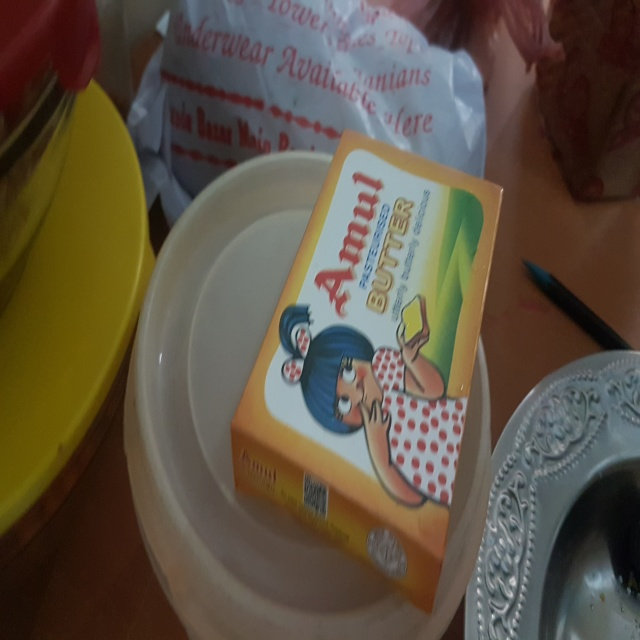butter: (227, 132, 529, 617)
